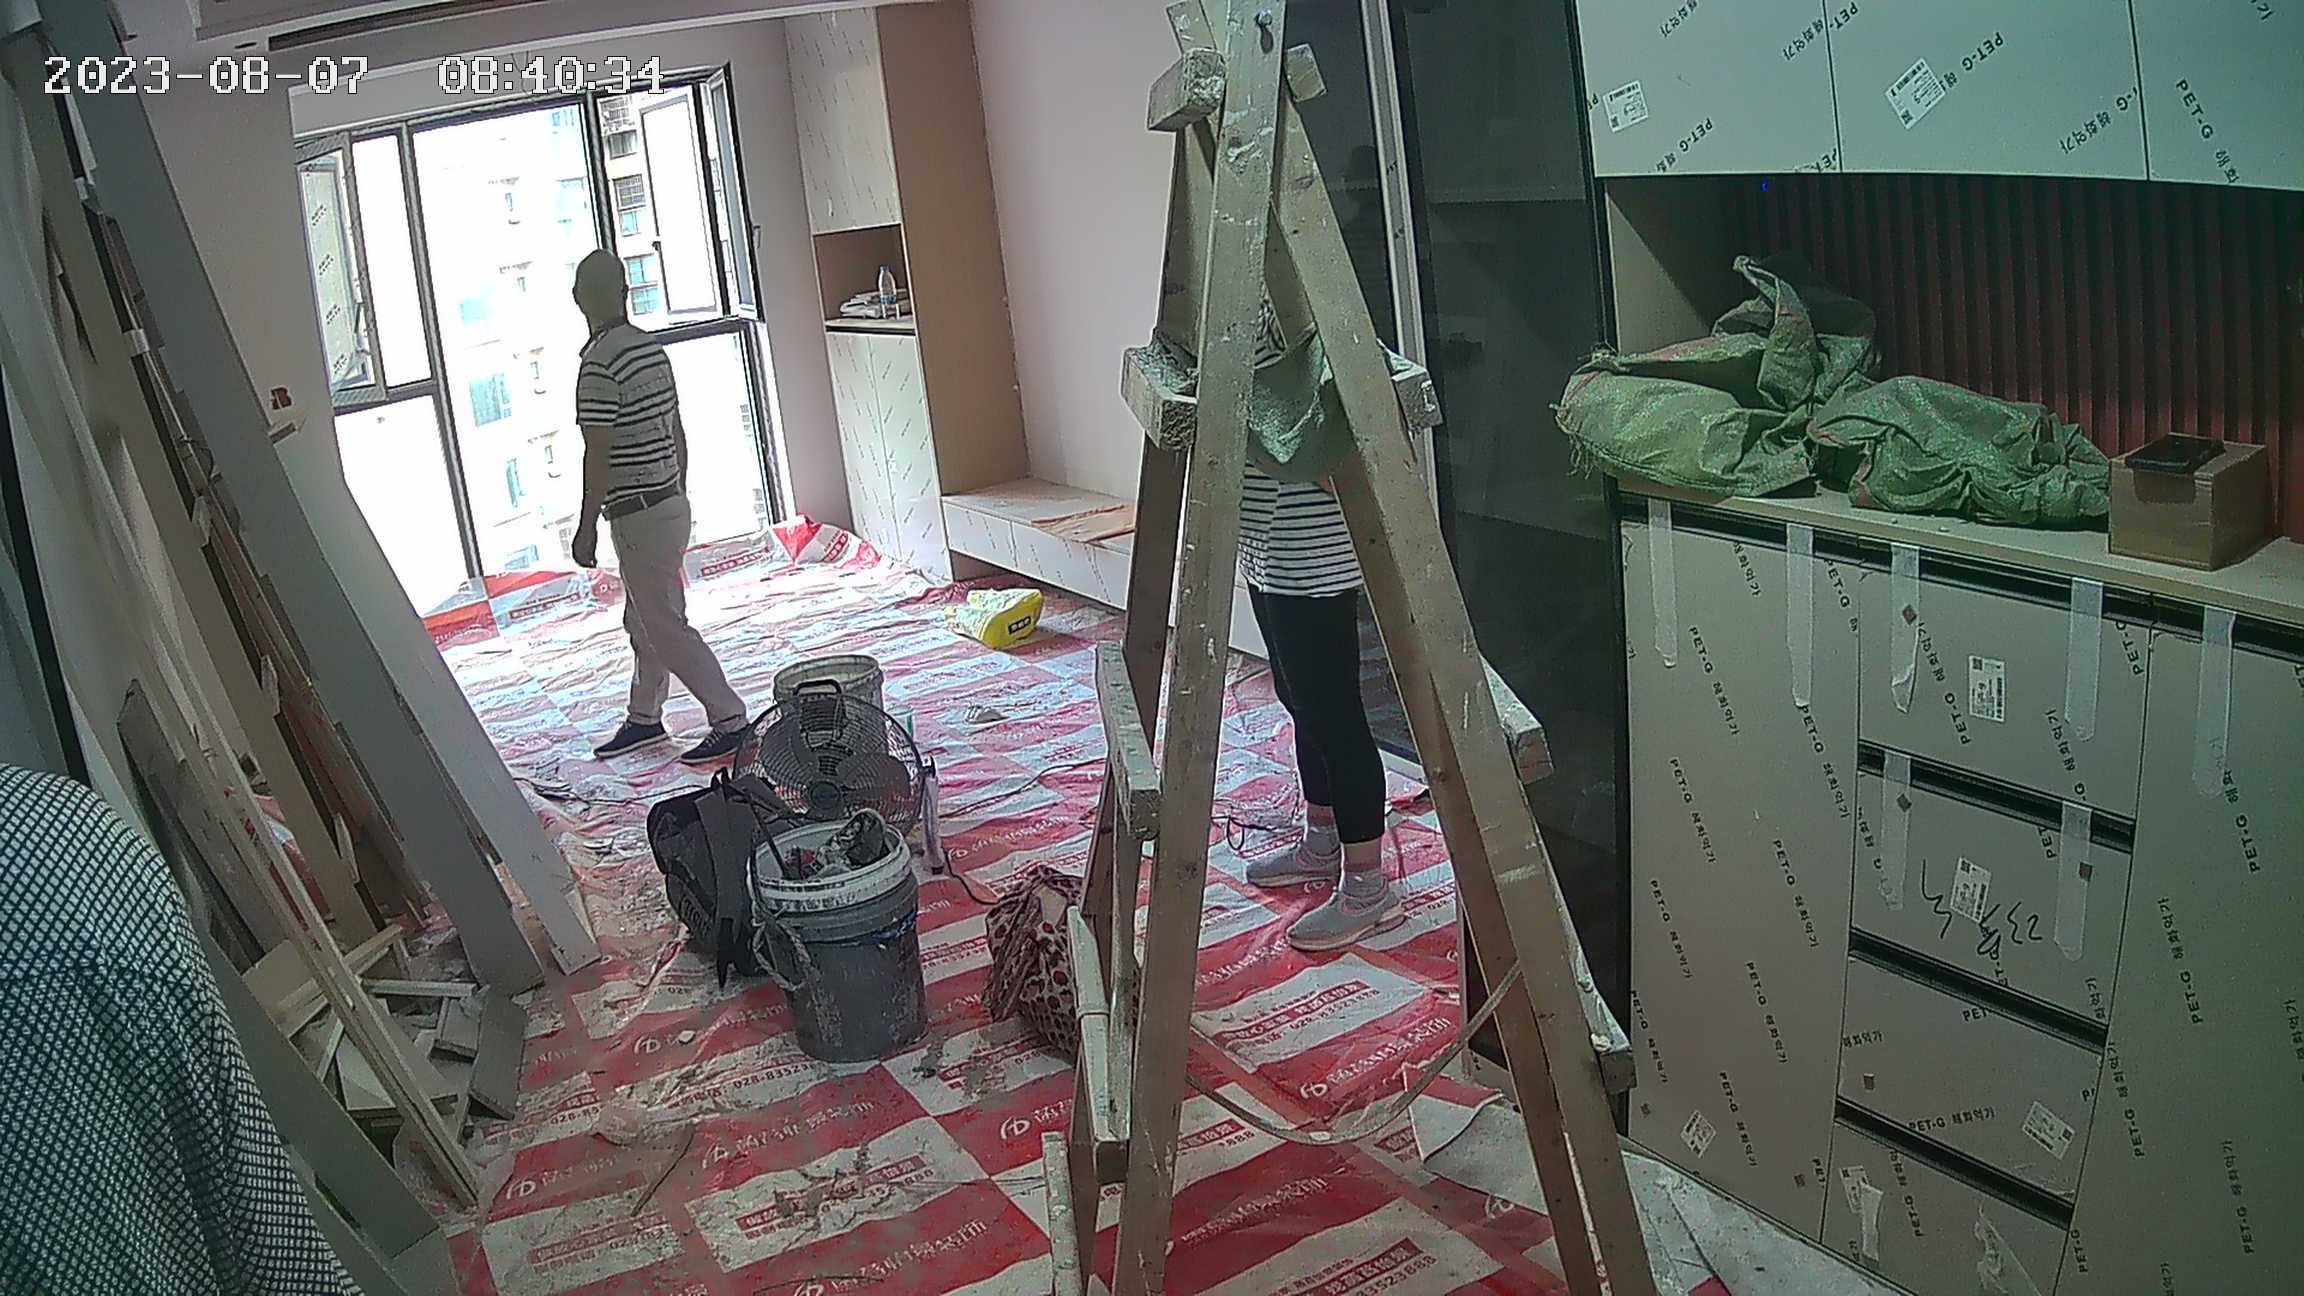people: (537, 244, 767, 769)
window: (284, 132, 824, 619)
